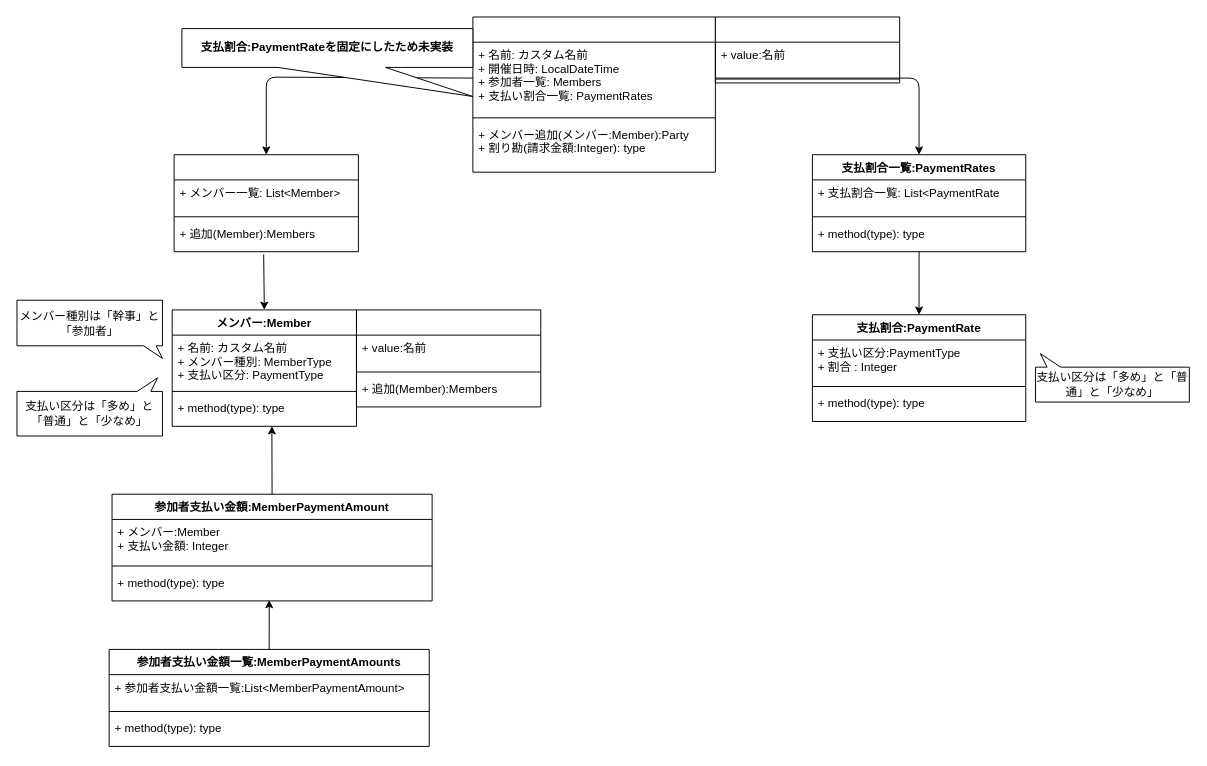
The diagram is 1207 pixels wide and 766 high, and some of its shapes have lost their labels. Each missing label, with the box of its shape:
メンバー一覧:Members: (173, 154, 358, 252)
メンバー名: (356, 309, 541, 407)
飲み会:Party: (472, 16, 715, 172)
飲み会名: (714, 16, 900, 83)
